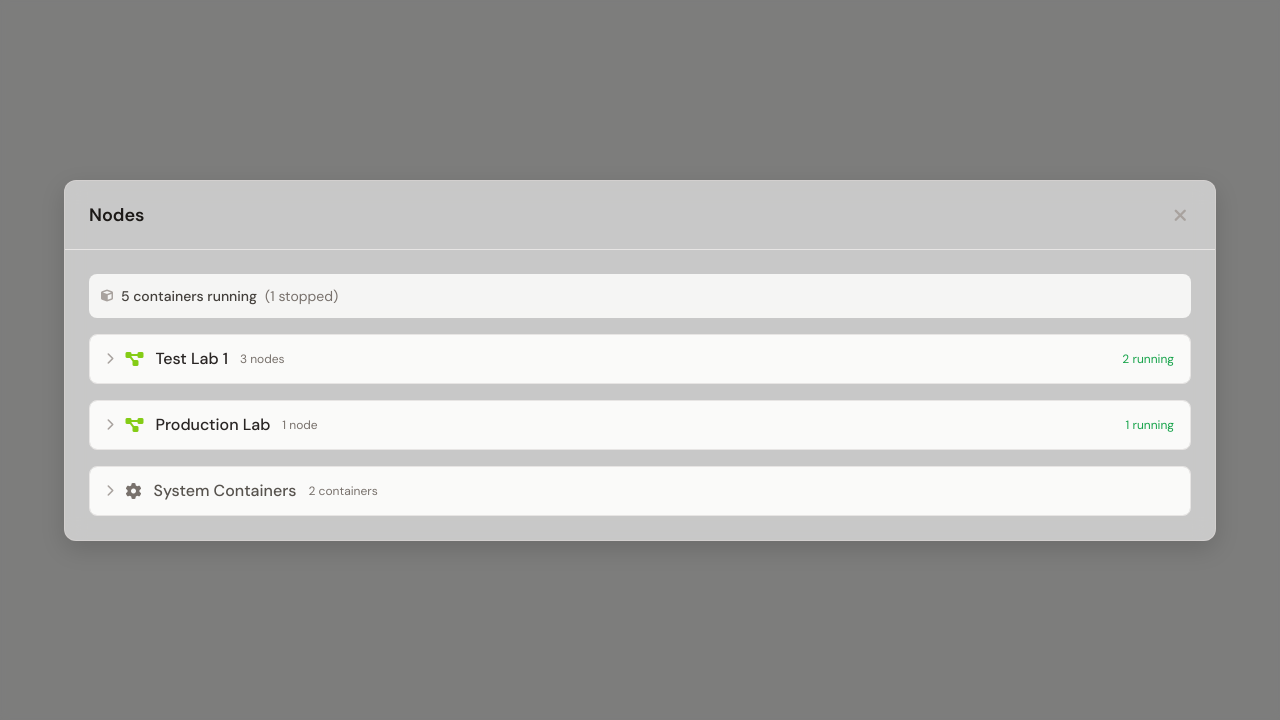
Test: ContainersPopup › expands lab to show container details when clicked
The width and height of the screenshot is (1280, 720).
// Click to expand lab section
Click the text "Test Lab 1" at (192, 358), box [156,346,228,370]
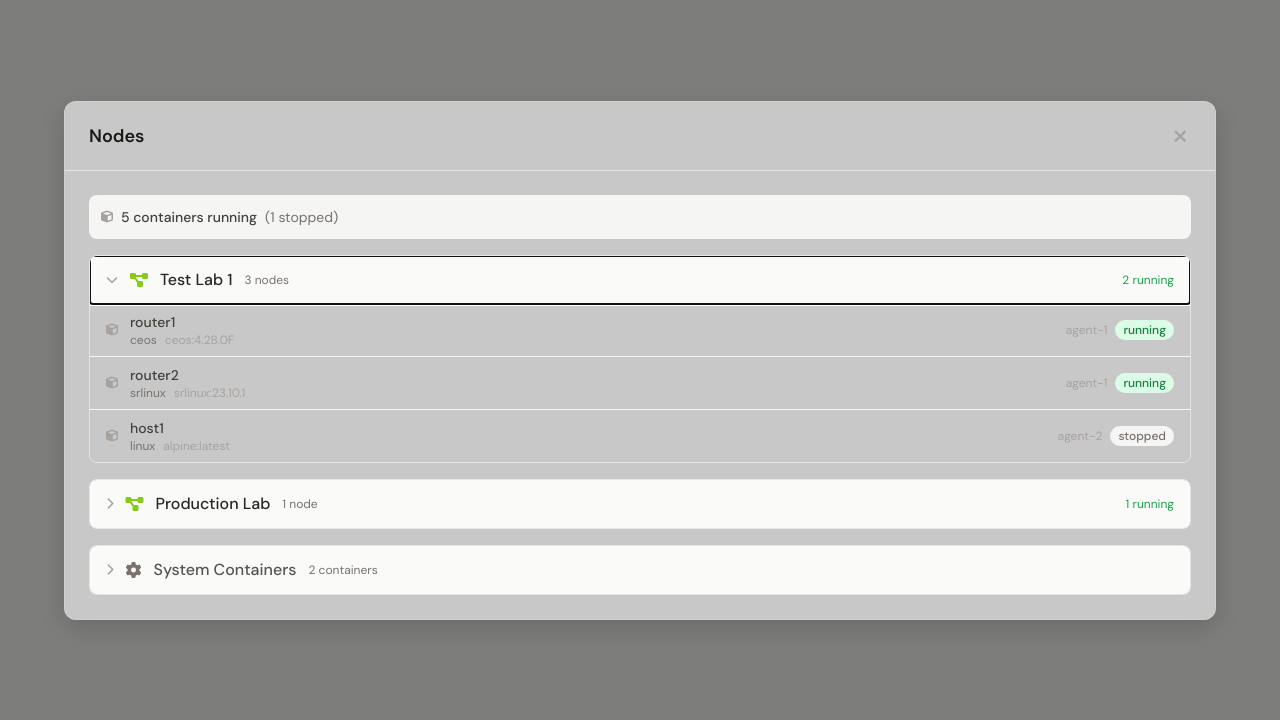
Expected: the text "router1" is shown, [130,312,175,330]
Expected: the text "router2" is shown, [130,366,179,384]
Expected: the text "host1" is shown, [130,418,164,436]
